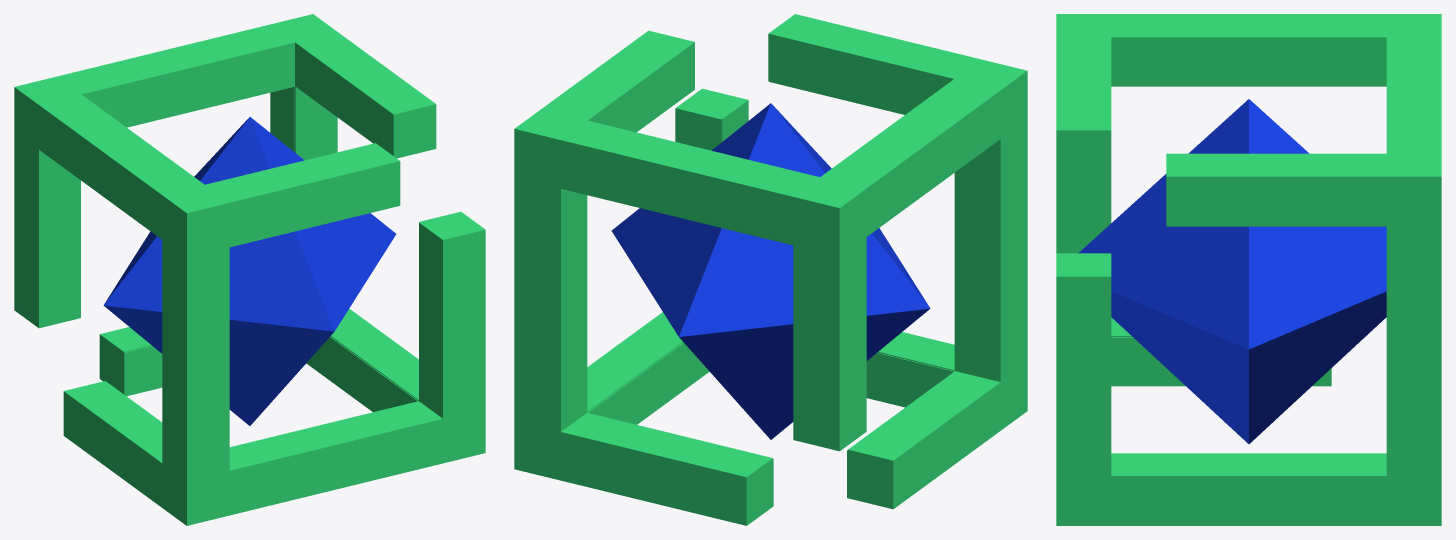
File: cubeelastic.fbx
3 renders of one model, left to right at view 1: azimuth 30°, elevation 25°; view 2: azimuth 150°, elevation 25°; view 3: azimuth 270°, elevation 25°, orthographic. The views are drawn at different scales.
Parts seen in each view (by area): view 1: Cube, Sphere; view 2: Cube, Sphere; view 3: Cube, Sphere.
Part boxes in pixels (x1,y1,x2,y2): Cube: (14,14,485,525); Sphere: (103,117,396,425); Cube: (514,14,1027,525); Sphere: (611,103,930,439); Cube: (1056,14,1441,525); Sphere: (1078,99,1386,443).
Size of the model in its own units: 199 by 199 by 199.
